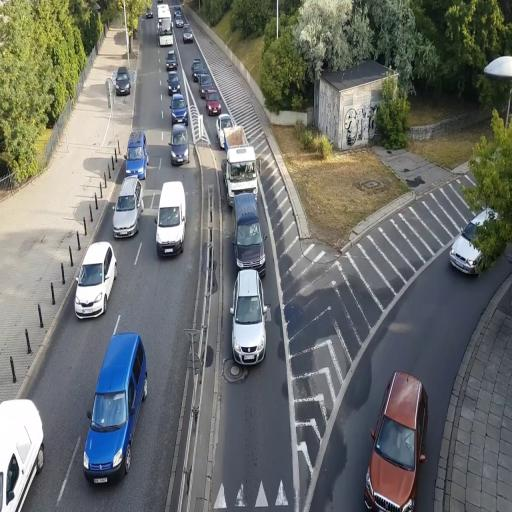vehicle: (82, 323, 148, 487), (364, 369, 429, 511), (0, 397, 45, 510), (230, 146, 266, 274), (230, 269, 268, 366), (74, 242, 116, 320), (231, 184, 266, 274), (156, 180, 186, 258), (225, 145, 258, 206), (113, 184, 140, 240), (450, 234, 484, 276), (126, 129, 148, 180), (170, 122, 189, 166), (216, 111, 235, 150), (113, 67, 131, 96), (170, 94, 188, 123), (206, 92, 222, 115), (182, 27, 194, 44)
